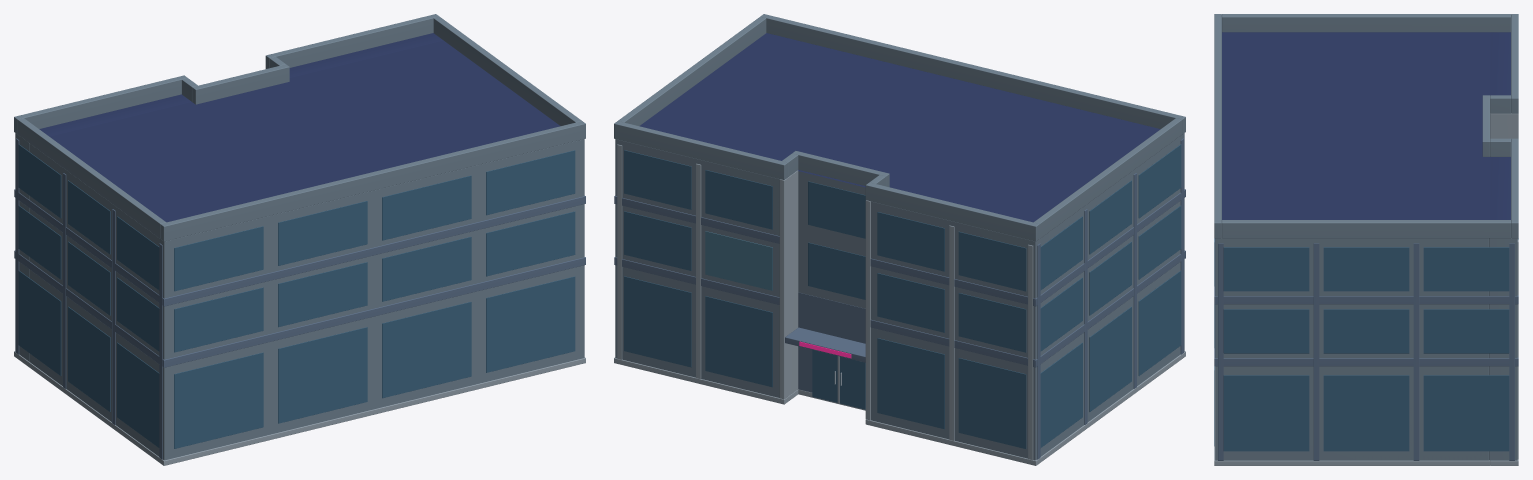
File: d04_podiums_01.glb
3 views of the same model, side by side, from view 1: azimuth 30°, elevation 25°; view 2: azimuth 150°, elevation 25°; view 3: azimuth 270°, elevation 25° (orthographic).
Parts seen in each view (by area): view 1: D04Podiums01_Mesh; view 2: D04Podiums01_Mesh; view 3: D04Podiums01_Mesh.
Part boxes in pixels (<box>): D04Podiums01_Mesh: <box>14,14,585,465</box>; D04Podiums01_Mesh: <box>614,14,1185,465</box>; D04Podiums01_Mesh: <box>1214,14,1518,465</box>.
Size of the model in its own units: 26 by 14.1 by 16.
